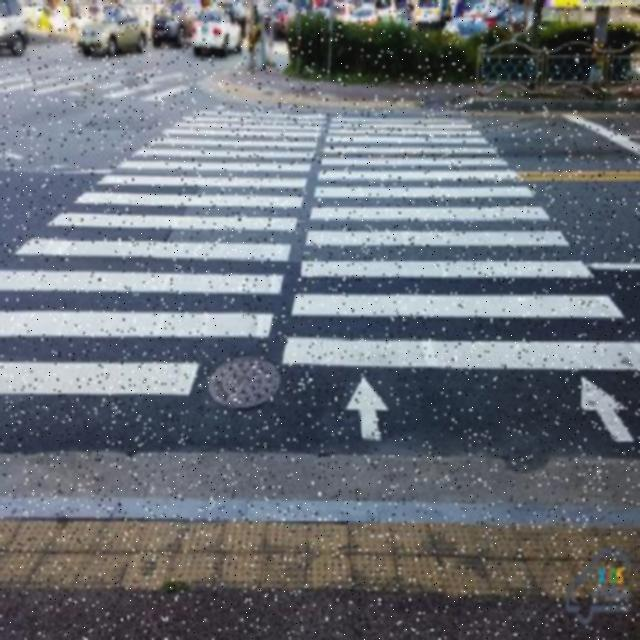crosswalk: (0, 108, 327, 398), (281, 115, 640, 374)
